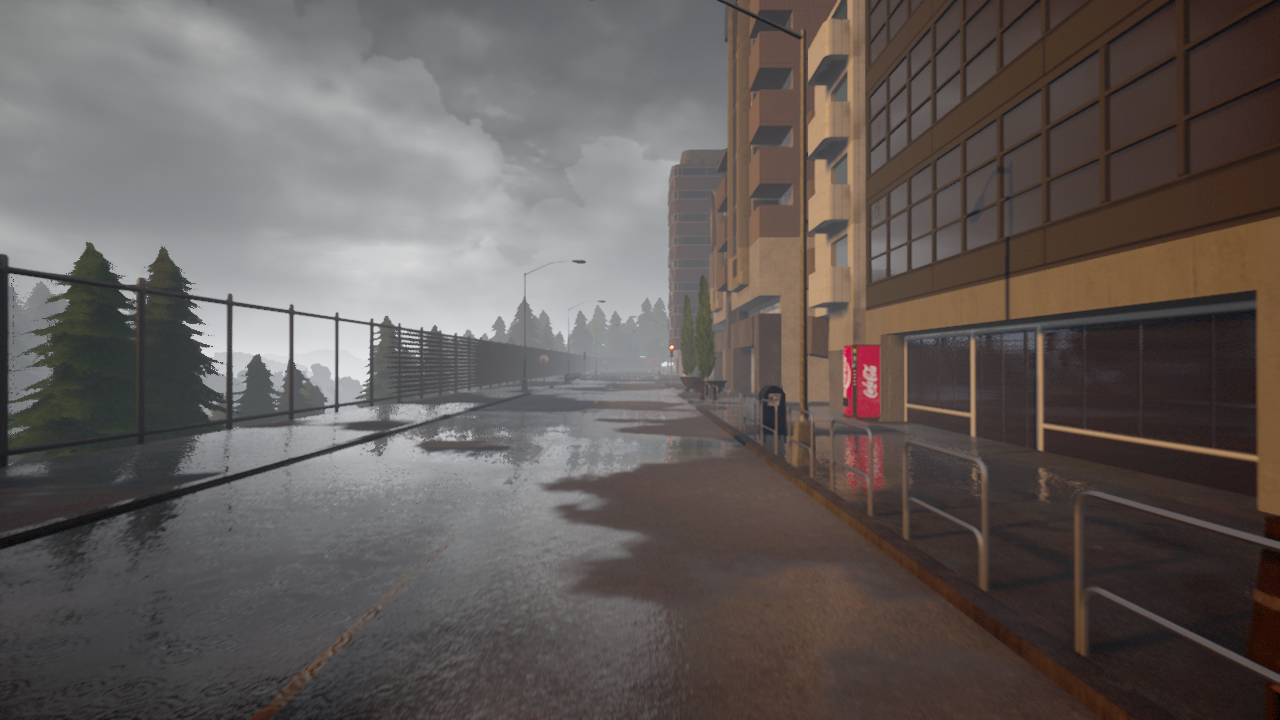red: (668, 343, 674, 357)
